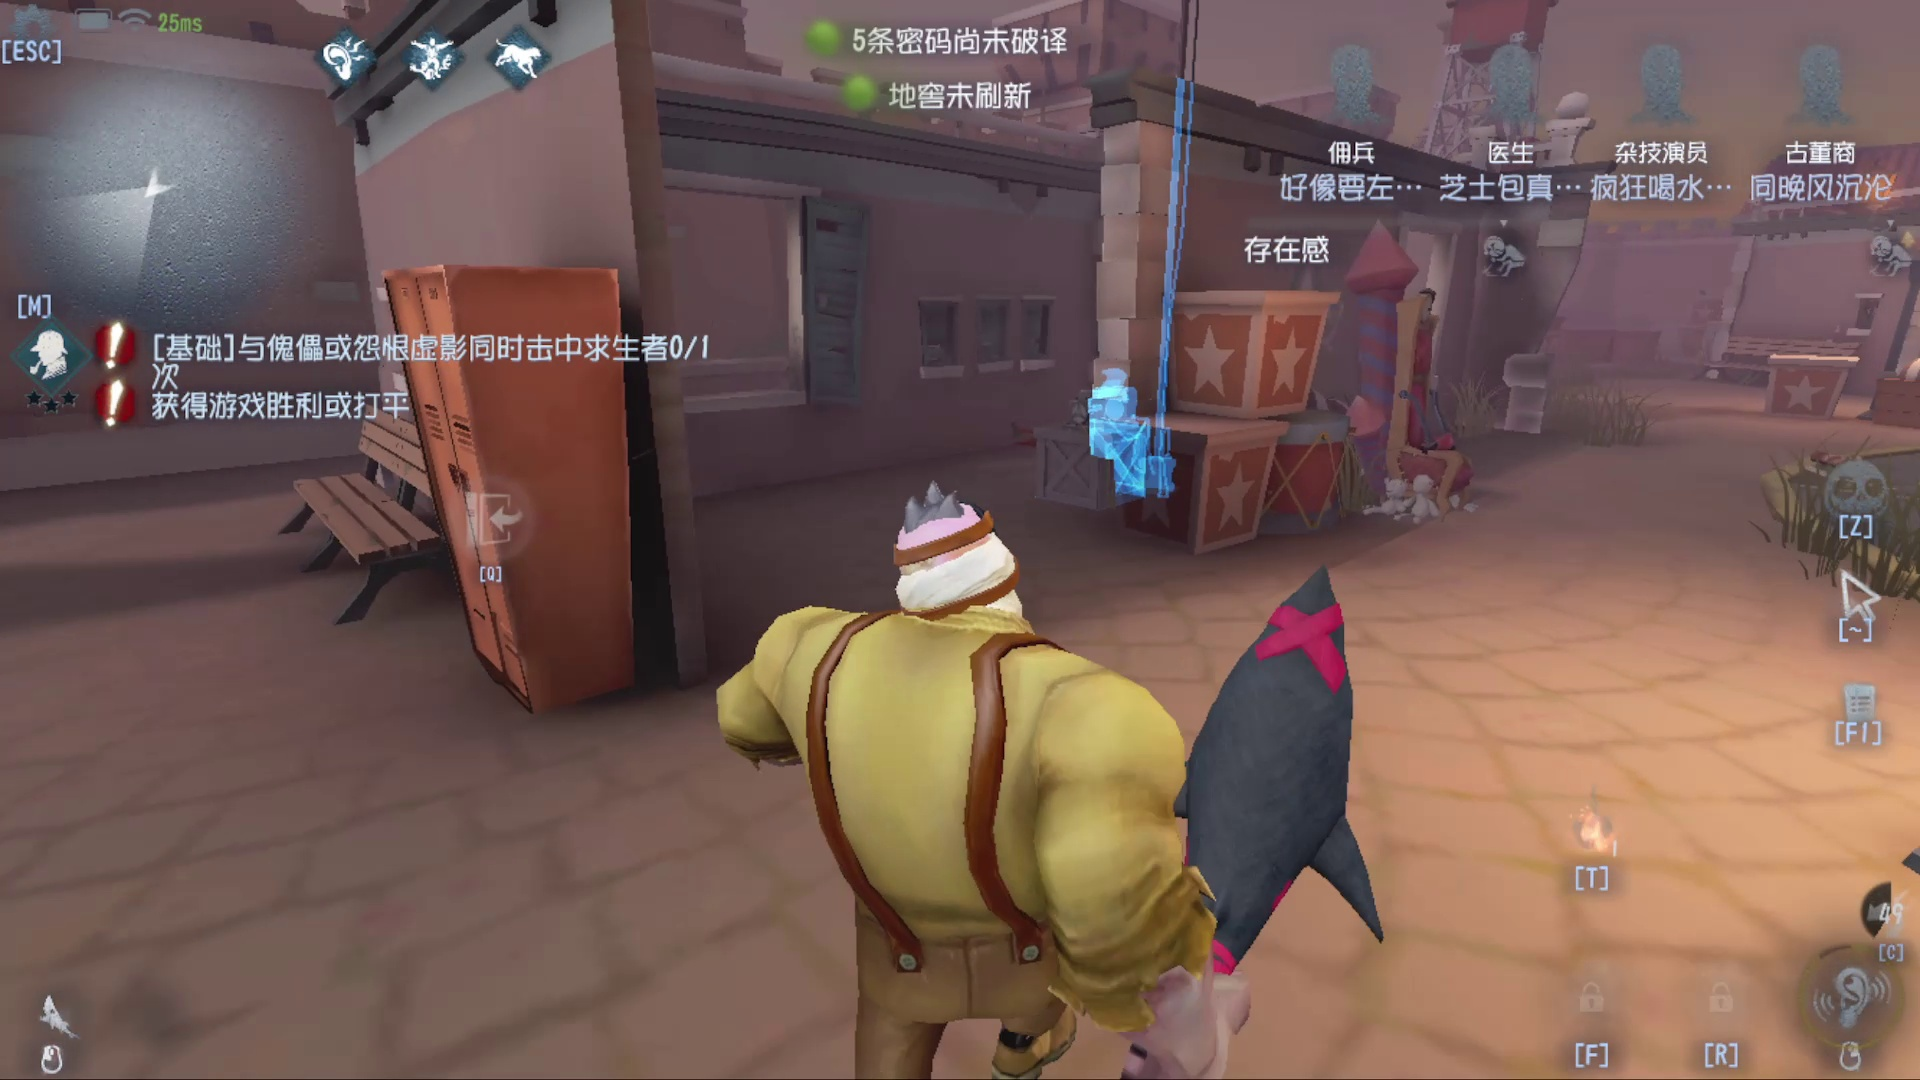密码机: (1058, 16, 1253, 535)
狂欢之椅: (1327, 208, 1495, 535)
